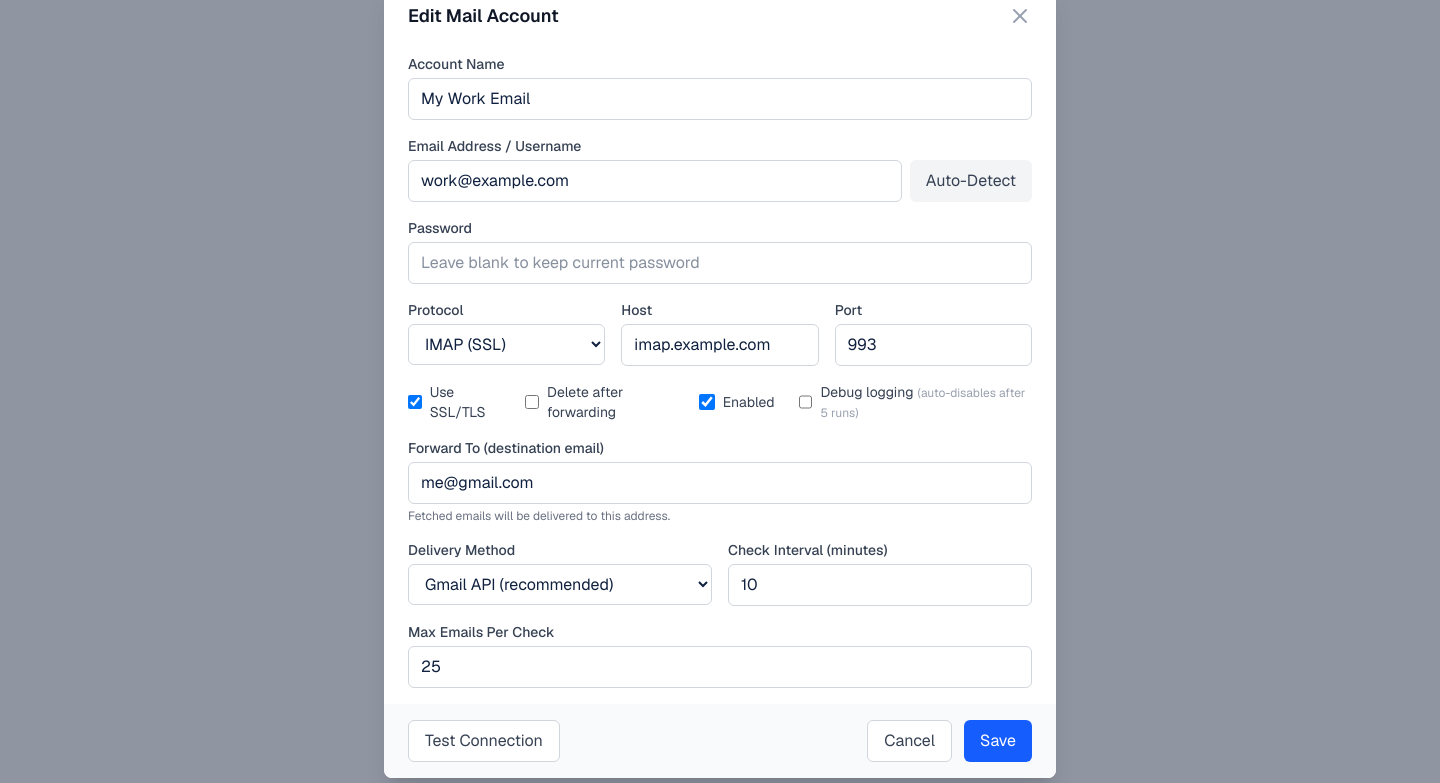
AddMailAccountModal › uses testExisting in edit mode when no password is entered
(page scrolled)
Click the button "Test Connection".
click(484, 741)  # box [408,720,560,762]
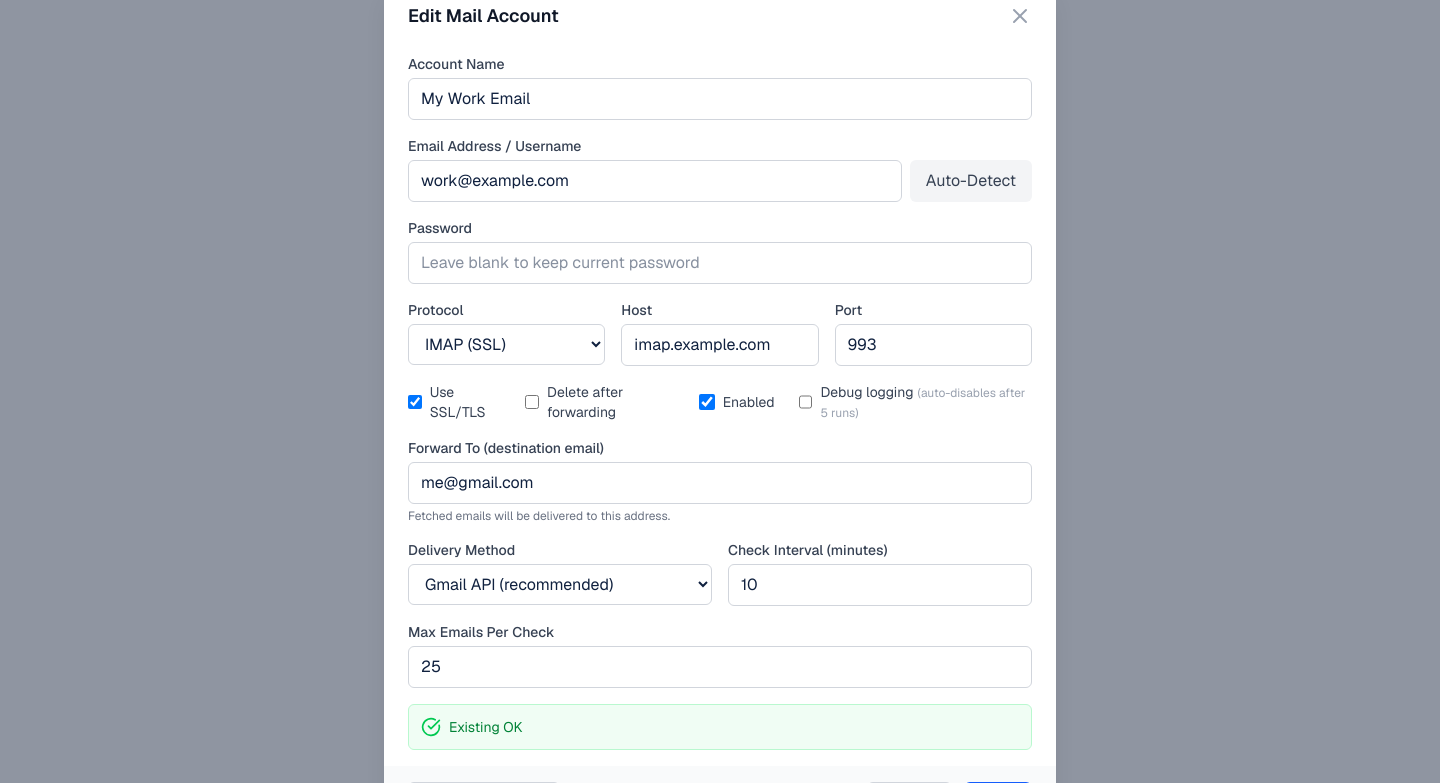
Check: the text "Existing OK" is shown, box [449,717,522,737]
